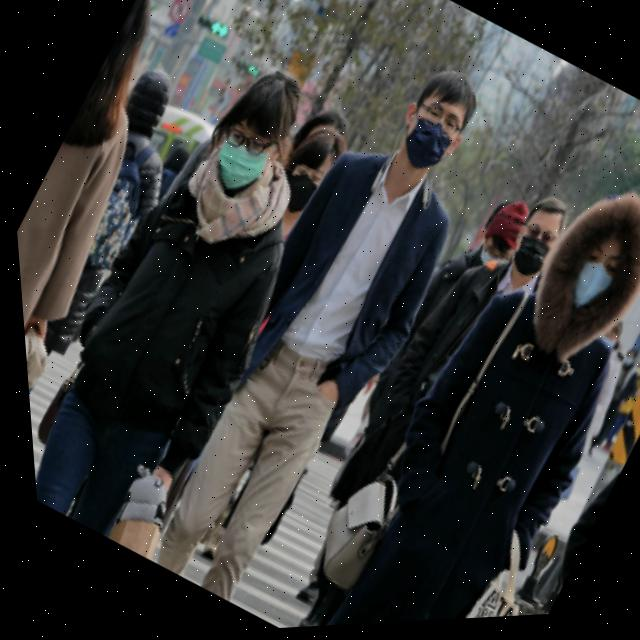Mask: (192, 128, 279, 214), (380, 101, 465, 182), (547, 253, 621, 327), (500, 230, 559, 292), (269, 173, 322, 225)
